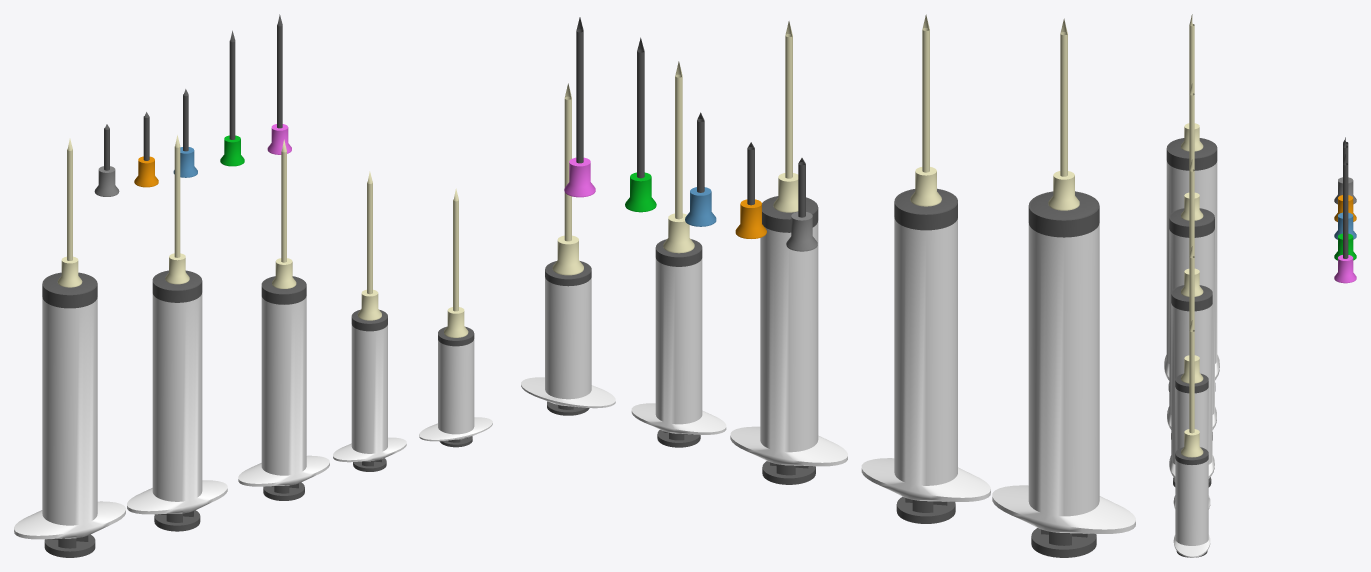
The model's file is syringes2.fbx.
3 renders of one model, left to right at view 1: azimuth 30°, elevation 25°; view 2: azimuth 150°, elevation 25°; view 3: azimuth 270°, elevation 25°, orthographic. The views are drawn at different scales.
Visible parts, largest first — view 1: basis1_5, basis1_4, basis1_3, basis1_2, basis1, snapzone_4, snapzone_5, snapzone_2, snapzone, snapzone_3, Cylinder_1_5, Cylinder_1_4 (+3 smaller); view 2: basis1_5, basis1_4, basis1_3, basis1_2, basis1, snapzone_4, snapzone_5, snapzone_2, snapzone_3, snapzone, Cylinder_1_5, Cylinder_1_4 (+8 smaller); view 3: basis1_5, basis1_3, basis1_4, basis1, basis1_2, snapzone, snapzone_3, snapzone_4, snapzone_2, snapzone_5, naaldRoos, basis1_1_5 (+3 smaller).
Boxes of the visible parts, box(x1,y1,x2,y2) form: basis1_5: box(14, 272, 125, 539); basis1_4: box(127, 270, 227, 514); basis1_3: box(238, 276, 329, 486); basis1_2: box(333, 309, 406, 462); basis1: box(419, 326, 492, 441); snapzone_4: box(165, 135, 189, 284); snapzone_5: box(57, 138, 82, 287); snapzone_2: box(357, 171, 381, 320); snapzone: box(444, 188, 468, 337); snapzone_3: box(272, 139, 296, 288); Cylinder_1_5: box(44, 534, 95, 557); Cylinder_1_4: box(154, 510, 200, 531); basis1_5: box(992, 191, 1135, 533); basis1_4: box(861, 188, 990, 501); basis1_3: box(730, 196, 847, 466); basis1_2: box(631, 239, 726, 434); basis1: box(521, 261, 615, 408); snapzone_4: box(910, 14, 941, 206); snapzone_5: box(1048, 18, 1079, 210); snapzone_2: box(663, 61, 694, 253); snapzone_3: box(773, 21, 798, 212); snapzone: box(552, 83, 583, 275); Cylinder_1_5: box(1031, 528, 1096, 557); Cylinder_1_4: box(896, 496, 955, 523); basis1_5: box(1164, 138, 1219, 380); basis1_3: box(1169, 285, 1214, 478); basis1_4: box(1167, 208, 1216, 429); basis1: box(1173, 447, 1210, 557); basis1_2: box(1173, 373, 1210, 509); snapzone: box(1181, 320, 1203, 457); snapzone_3: box(1181, 159, 1203, 296); snapzone_4: box(1181, 83, 1203, 220); snapzone_2: box(1181, 246, 1203, 383); snapzone_5: box(1181, 14, 1203, 151); naaldRoos: box(1343, 154, 1348, 258); basis1_1_5: box(1334, 255, 1356, 283).
Size of the model in its own units: 13.98 by 11.53 by 5.34.
